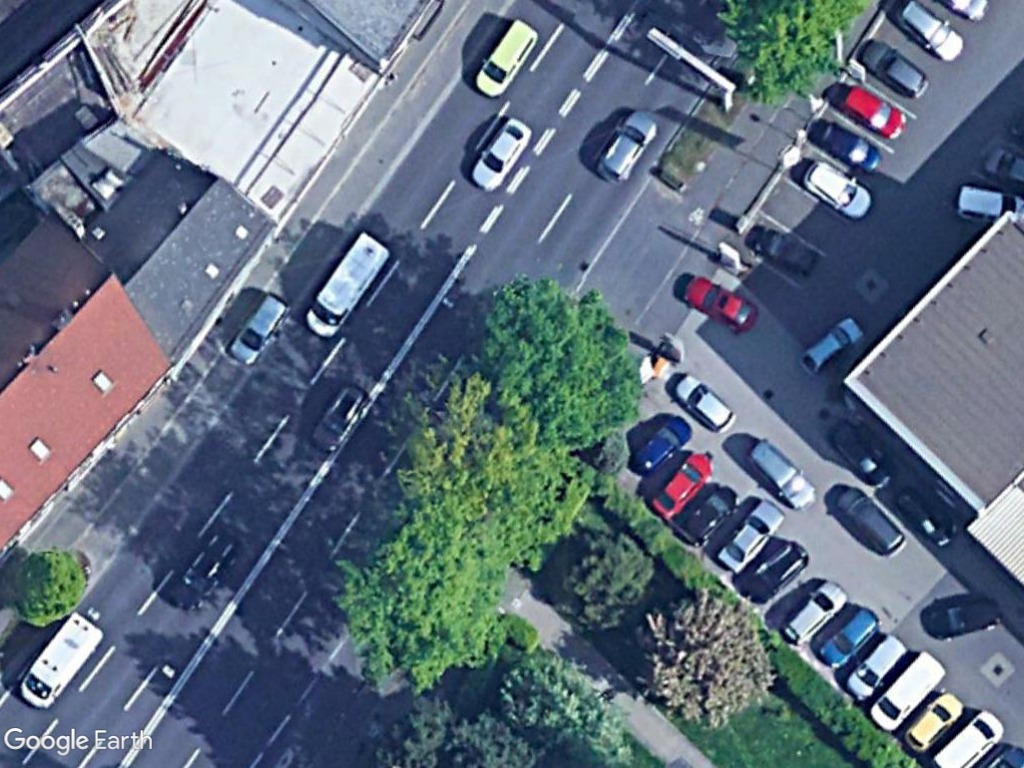car: (744, 433, 820, 513), (827, 485, 911, 556), (824, 416, 897, 491), (464, 116, 535, 192), (715, 501, 786, 575), (799, 156, 875, 223), (680, 275, 761, 337), (225, 291, 289, 368), (891, 0, 966, 65), (595, 107, 658, 184), (675, 485, 744, 552), (861, 35, 931, 101), (649, 448, 713, 519), (837, 80, 907, 142), (669, 369, 737, 432), (628, 414, 694, 478), (795, 315, 865, 374), (752, 222, 822, 277), (813, 119, 882, 171)
van: (298, 227, 391, 340), (14, 608, 106, 712), (471, 18, 542, 99)
